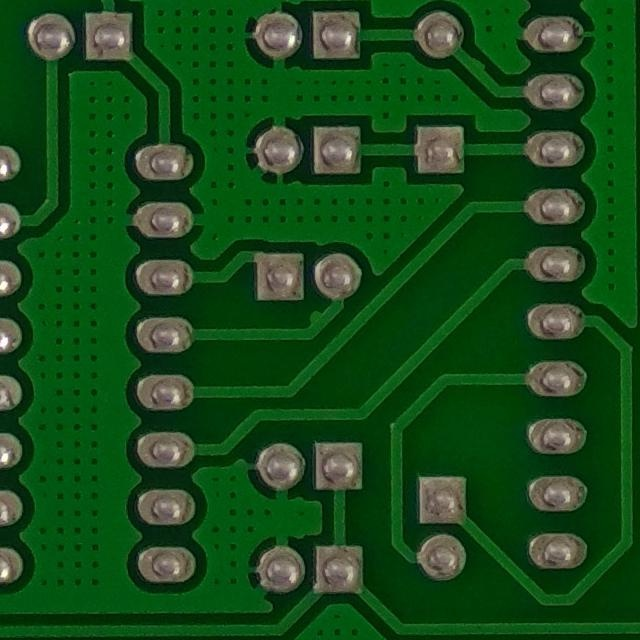spur: (303, 302, 336, 338)
